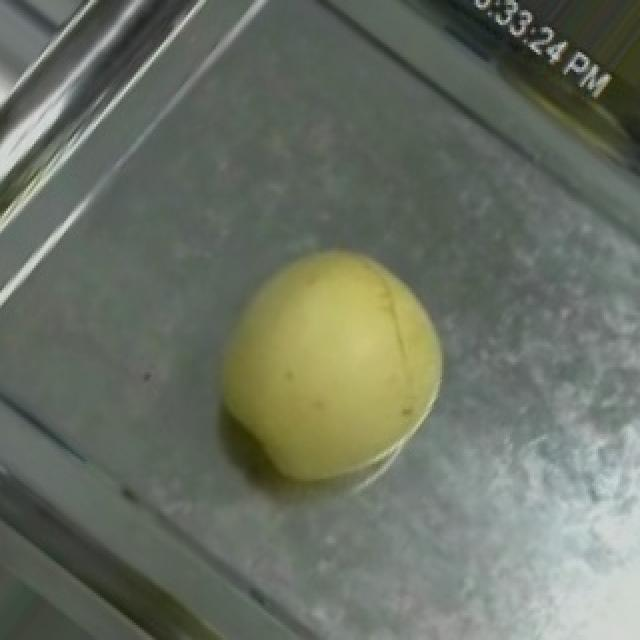Fruit: (172, 208, 490, 518)
